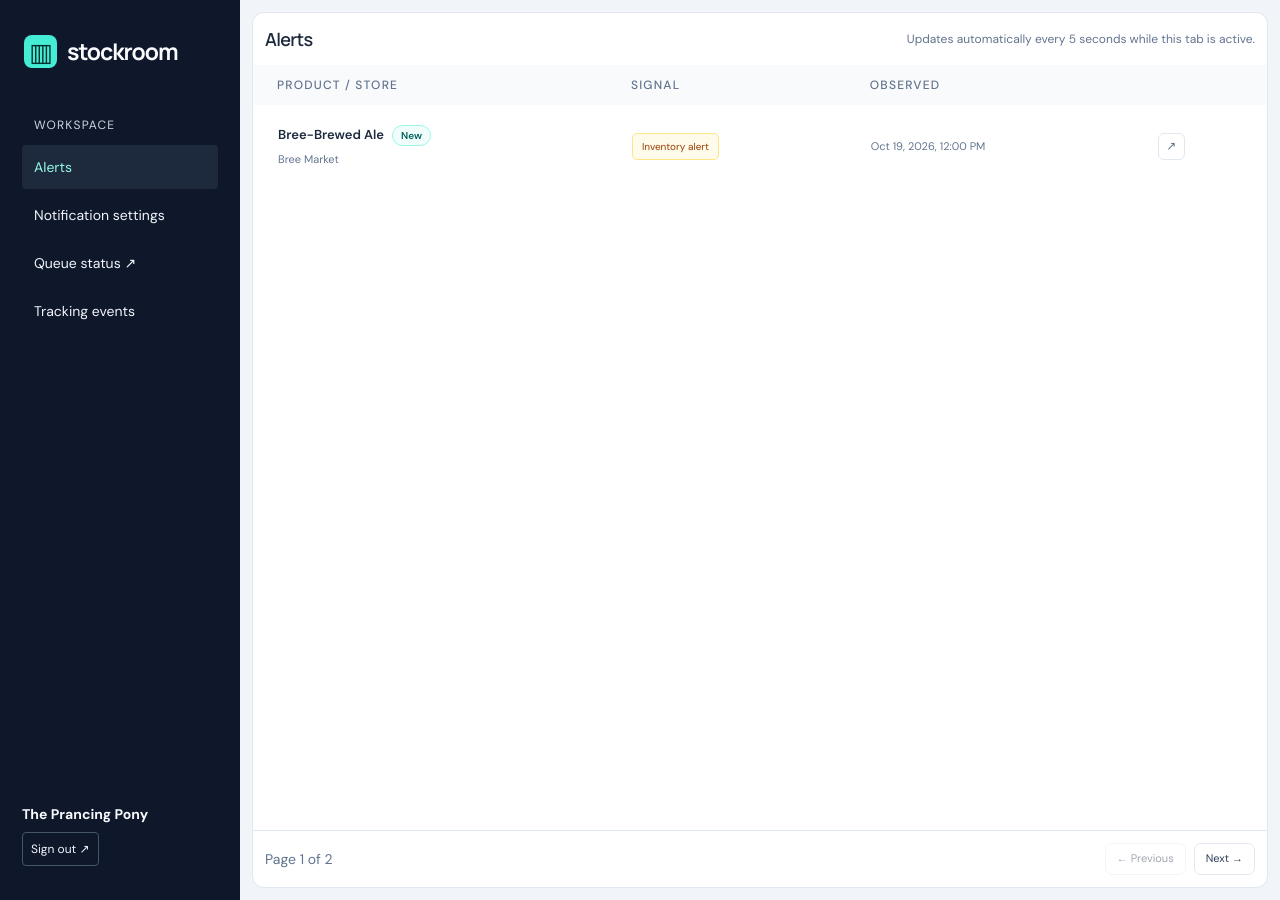
brand alert workspace › navigates from a paginated inbox to observation details
Expected: the link "Bree-Brewed Ale" is shown, [278, 126, 384, 143]
Click the button "Next →".
click(1224, 859)  # box [1194, 843, 1255, 875]
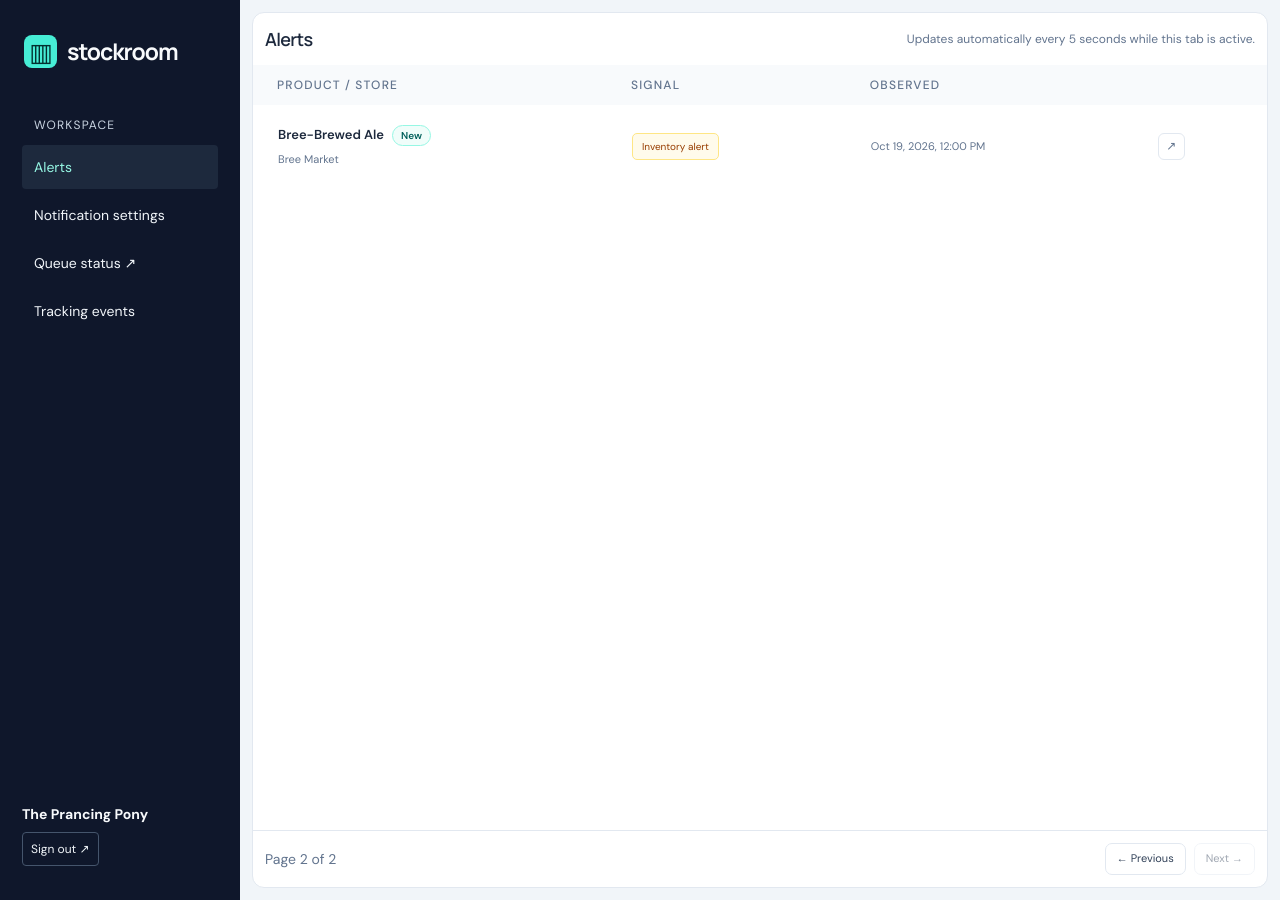
Result: the text "Page 2 of 2" is shown at [265, 849, 336, 869]
Click the link "Bree-Brewed Ale".
click(331, 134)  # box [278, 126, 384, 143]
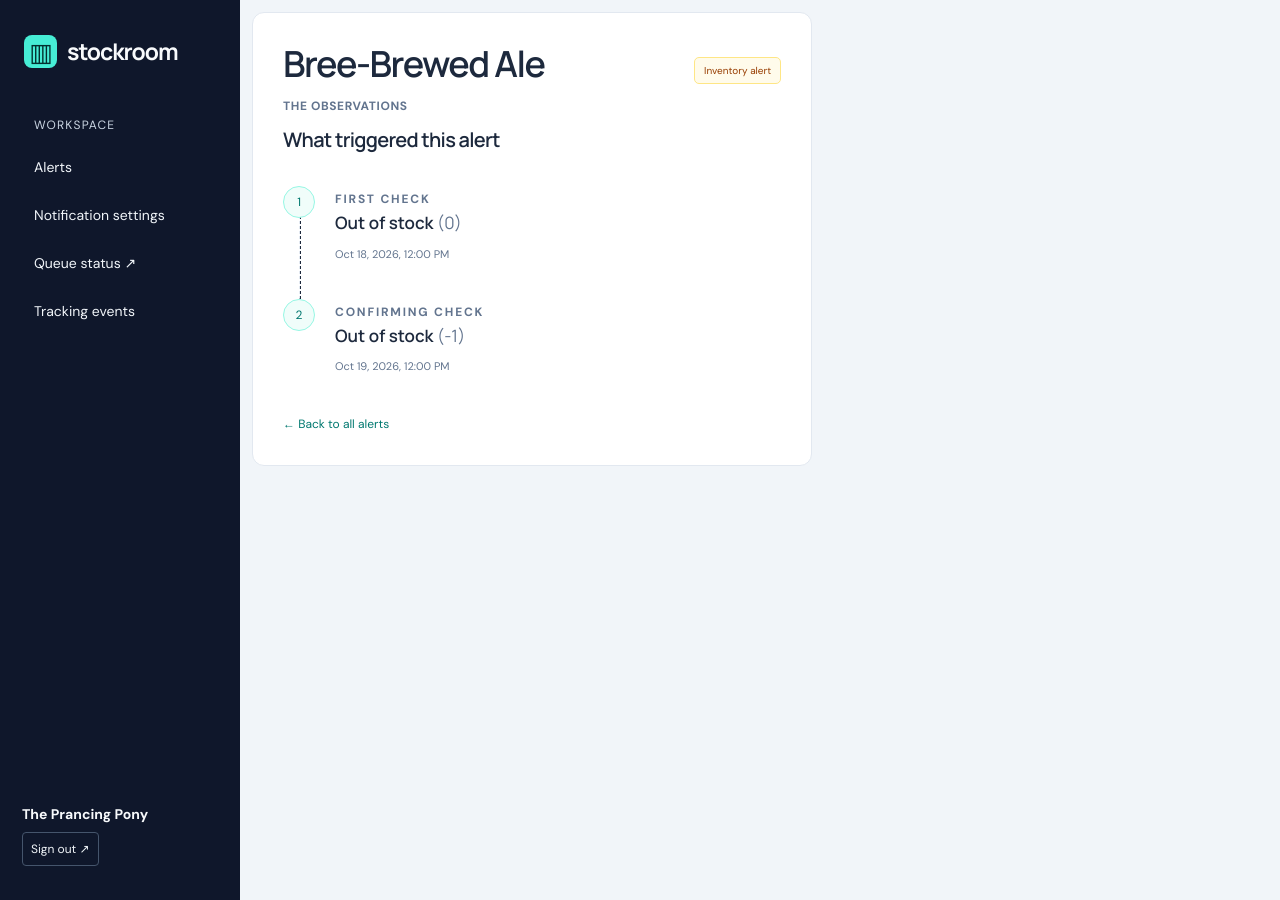
Result: the heading "What triggered this alert" is shown at [283, 126, 500, 153]
Result: the text "(-1)" is shown at [437, 324, 465, 347]
